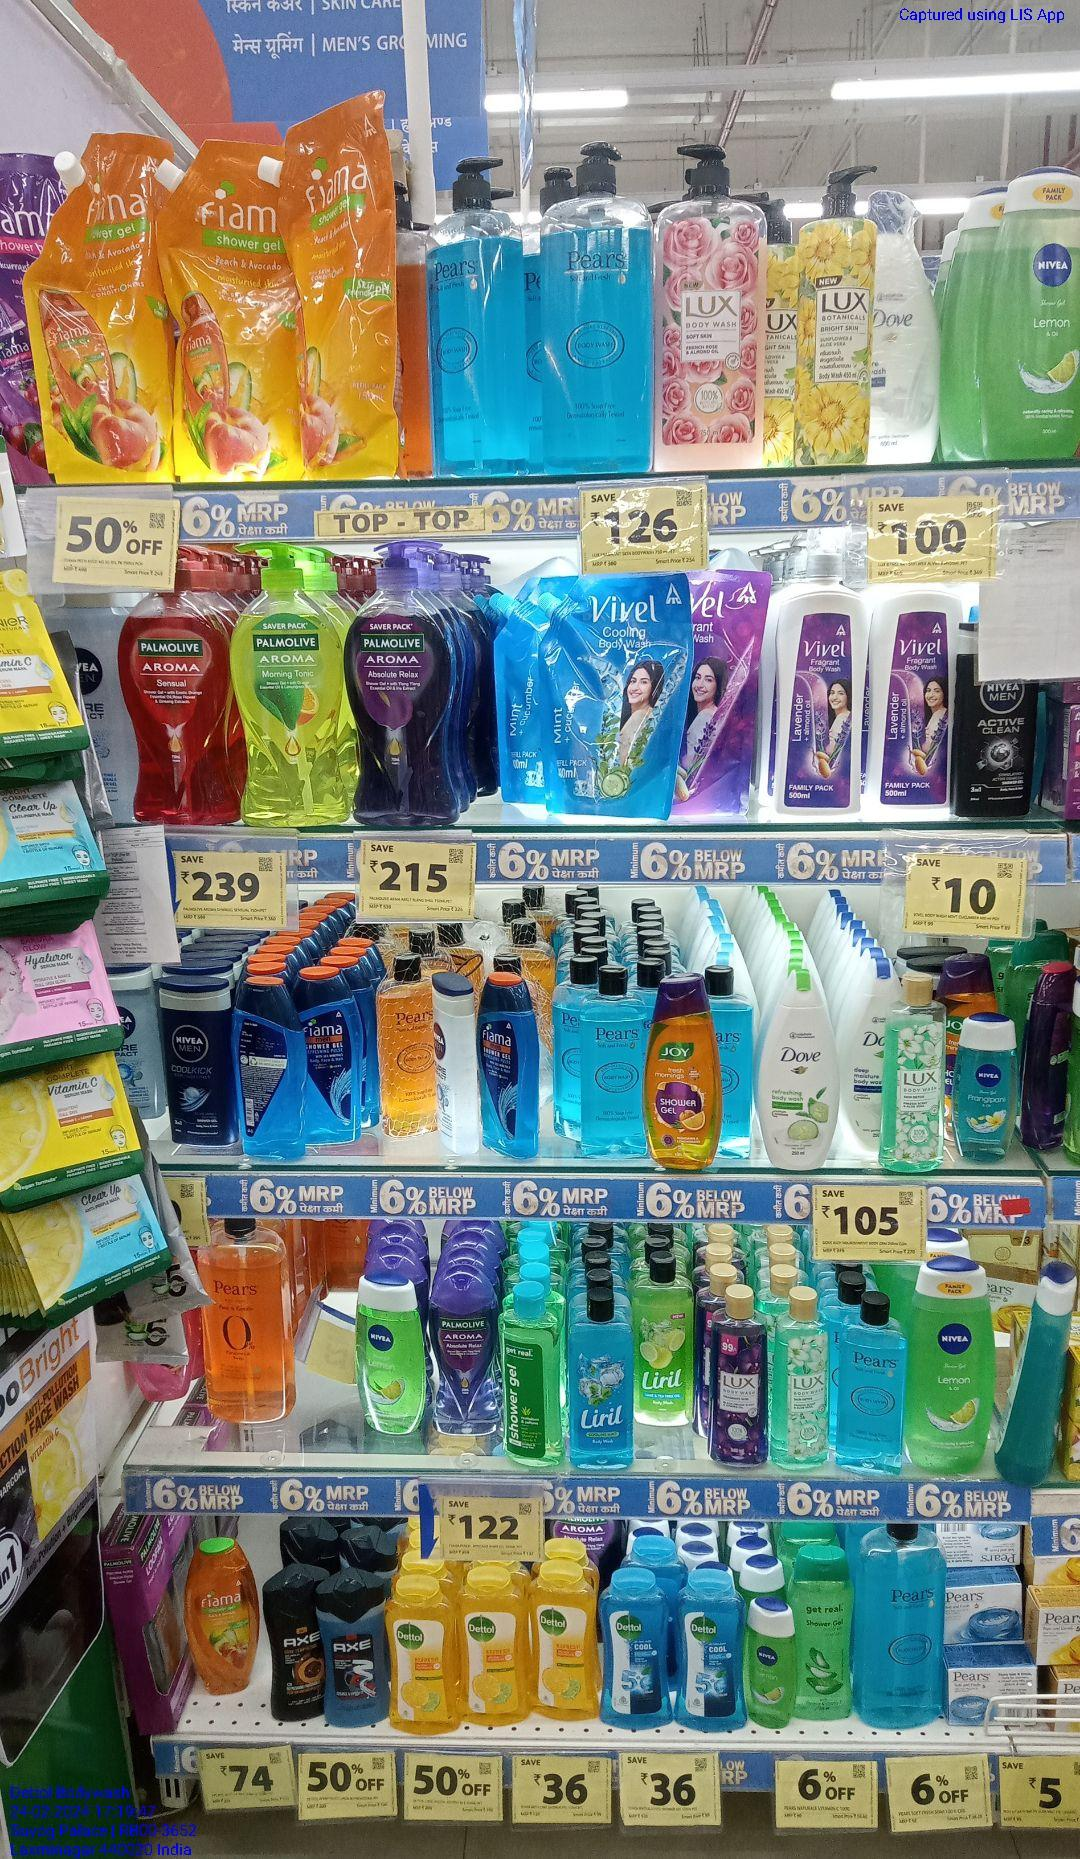Dettol_Bodywash_Cool: (676, 1572, 744, 1730), (598, 1581, 670, 1729)
Dettol_Bodywash_Refresh: (388, 1586, 456, 1736), (531, 1572, 598, 1721), (460, 1579, 526, 1730)
Dove_Refreshing_Body_Wash_250ML: (759, 973, 841, 1172)
Fiama_Shower_Gel_Peach_and_Avocado_250ML: (190, 1547, 260, 1694)
Joy_Shower_Gel_Mandarin_and_Lemongrass_250ML: (645, 977, 720, 1169)
Liril_Cooling_Mint_Body_Wash_250ML: (573, 1292, 635, 1468)
Liril_Lime_and_Tea_Tree_Oil_Body_Wash_250ML: (635, 1252, 696, 1427)
Lux_Black_Orchid_Scent_and_Juniper_Oil_Body_Wash_245ML: (714, 1293, 766, 1464)
Lux_Body_Wash_Skin_Detox_Freesia_Scent_and_Alove_Vera_245ML: (883, 973, 941, 1175), (780, 1296, 831, 1464)
Nivea_Shower_Gel_Lemon_and_Oil_250ML: (1000, 165, 1080, 462), (912, 1261, 994, 1472), (357, 1282, 423, 1436)
Palmolive_Aroma_Relax_250ML: (437, 1271, 499, 1440)
Pears_Pure_Glycerin_and_Mint_Extracts_Body_Wash_250ML: (584, 968, 642, 1161), (842, 1300, 903, 1469)
